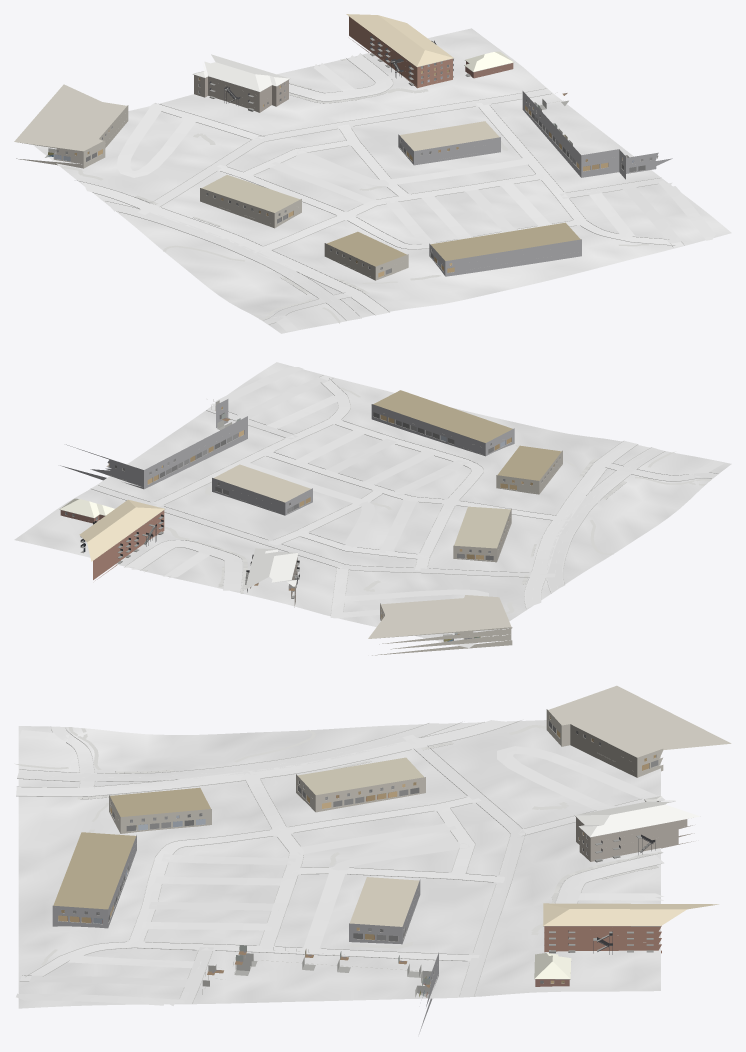
3 views of the same model, one above another, from view 1: azimuth 30°, elevation 25°; view 2: azimuth 150°, elevation 25°; view 3: azimuth 270°, elevation 25° (orthographic). The views are drawn at different scales.
Parts seen in each view (by area): view 1: ground, concrete, roof_flat, wall_com, asphalt, roof, curb, wall, walk, detail, glass, glass_lit; view 2: ground, concrete, roof_flat, wall_com, asphalt, roof, curb, wall, walk, detail, glass, glass_lit; view 3: ground, concrete, roof_flat, wall_com, asphalt, roof, wall, curb, walk, detail, room, glass (+1 smaller).
Boxes of the visible parts, x1,y1,x2,y2 form: ground: (33,28,731,333); concrete: (116,53,715,331); roof_flat: (14,84,580,266); wall_com: (16,91,672,280); asphalt: (81,181,389,320); roof: (193,14,513,91); curb: (75,53,684,324); wall: (194,16,513,112); walk: (61,58,648,323); detail: (54,38,650,277); glass: (56,61,652,274); glass_lit: (54,64,634,277); ground: (14,362,731,647); concrete: (91,367,723,618); roof_flat: (213,390,561,638); wall_com: (60,399,562,655); asphalt: (524,441,663,608); roof: (59,498,298,589); curb: (90,375,717,615); wall: (60,510,297,607); walk: (142,387,711,620); detail: (59,399,560,642); glass: (65,412,560,639); glass_lit: (108,406,554,634); ground: (18,720,660,1008); concrete: (16,726,664,1005); roof_flat: (53,685,731,926); wall_com: (52,709,663,1033); asphalt: (16,720,514,796); roof: (534,796,718,978); wall: (535,801,694,986); curb: (16,720,663,1003); walk: (14,725,662,965); detail: (58,715,677,994); room: (58,717,658,997); glass: (73,721,658,983).
Bounding box in the file's own units: 294 × 23.33 × 279.
